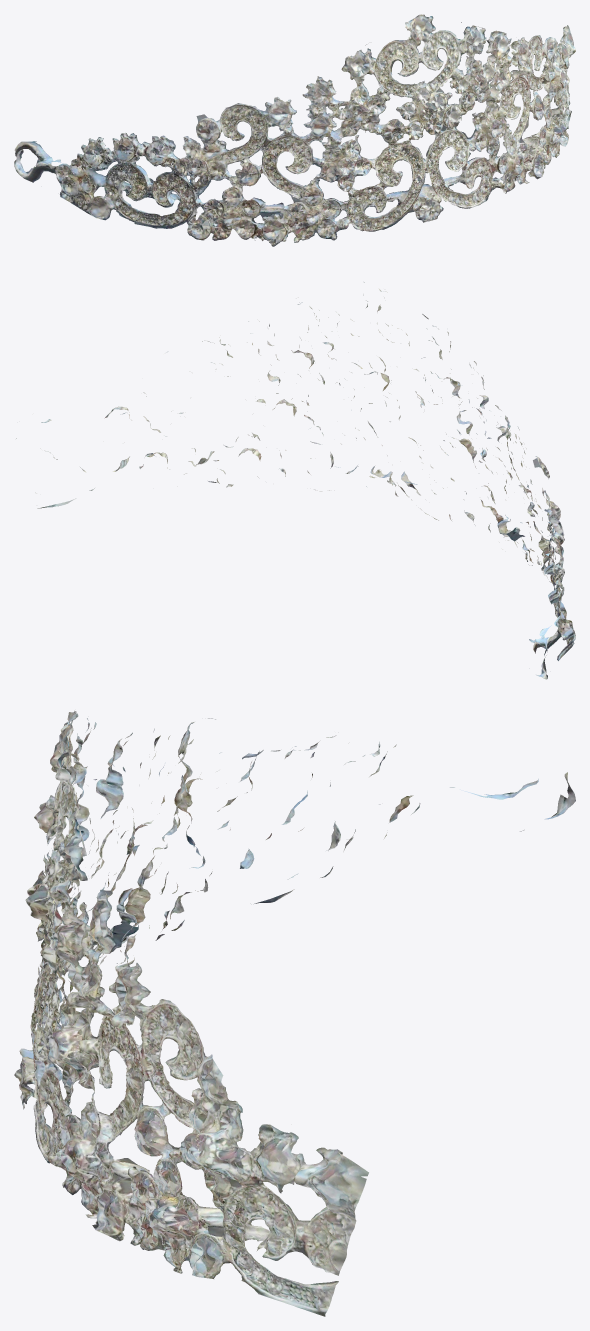
The model's file is corona.glb.
The picture shows the model from 3 angles, top to bottom: view 1: azimuth 30°, elevation 25°; view 2: azimuth 150°, elevation 25°; view 3: azimuth 270°, elevation 25°; orthographic projection. The views are drawn at different scales.
Parts seen in each view (by area): view 1: 07338127-4c88-4066-aa4f-dbe185f262ad; view 2: 07338127-4c88-4066-aa4f-dbe185f262ad; view 3: 07338127-4c88-4066-aa4f-dbe185f262ad.
Boxes of the visible parts, x1,y1,x2,y2 form: 07338127-4c88-4066-aa4f-dbe185f262ad: (14, 14, 575, 246); 07338127-4c88-4066-aa4f-dbe185f262ad: (16, 282, 575, 679); 07338127-4c88-4066-aa4f-dbe185f262ad: (14, 710, 575, 1316).
Size of the model in its own units: 1.26 by 0.4913 by 0.6248.
1 material, 1 textured.
